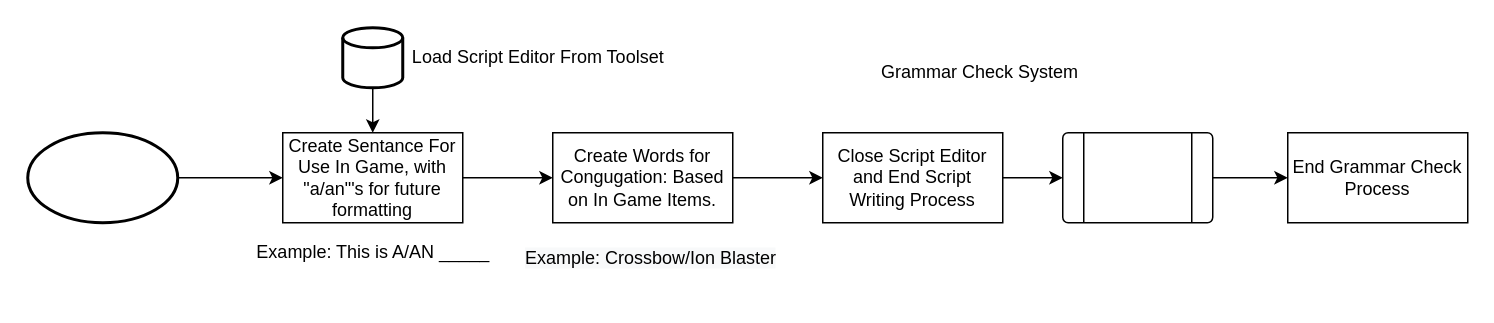
Image size: 1494x323. Some labels were removed from this diagram. Here are the shapes that lost their labels. From the top down, the centre of each, then its label:
At point 102,177: "Start Grammar Check Process".
At point 1137,177: "Run Function: ProperGrammarCheck: when in game.".
